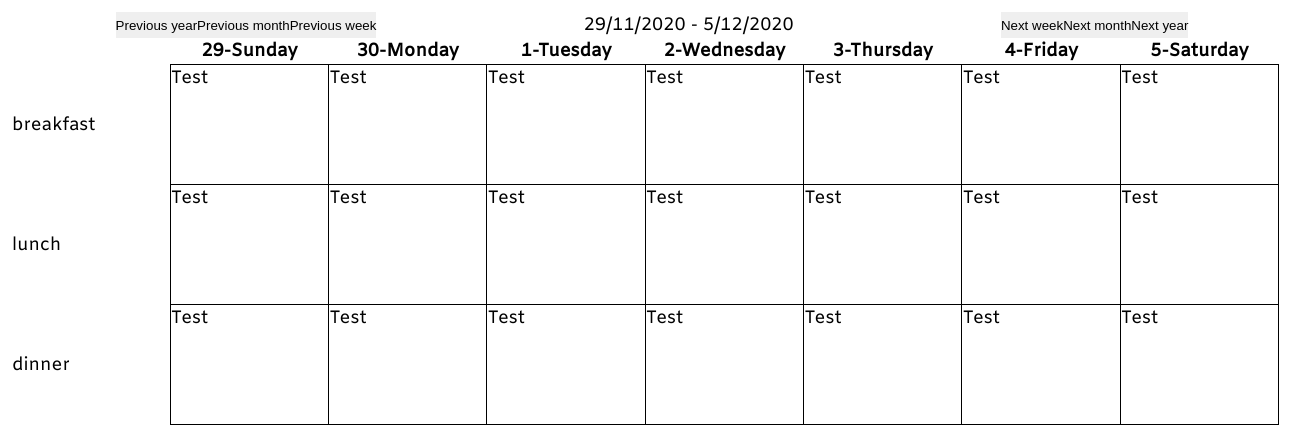
recipe calendar › should render the previous month when selected
Click the button "Previous month" at (243, 25), box [197,12,290,38]
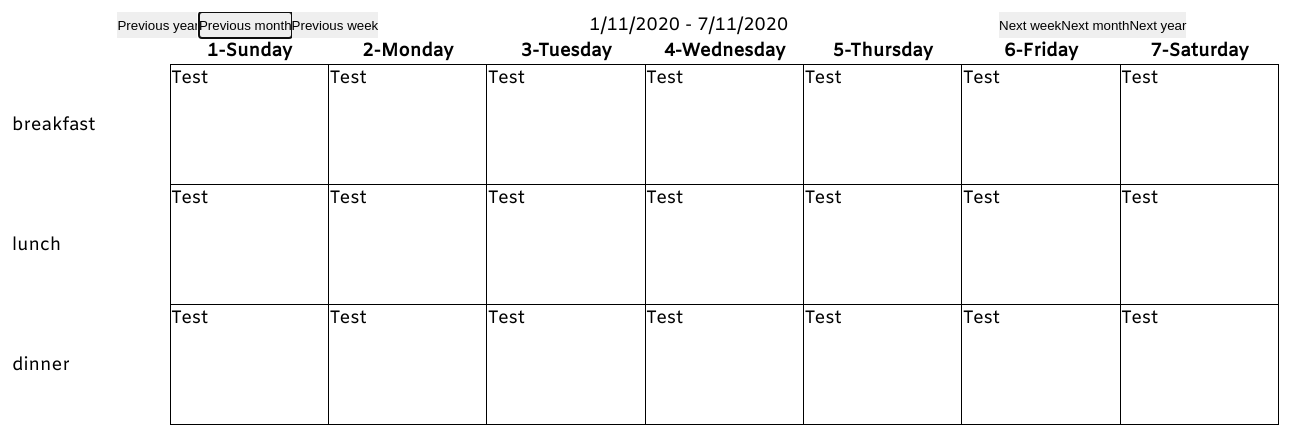
Now the text with test id "selectedWeek" reads "1/11/2020 - 7/11/2020", box [589,12,788,38]
